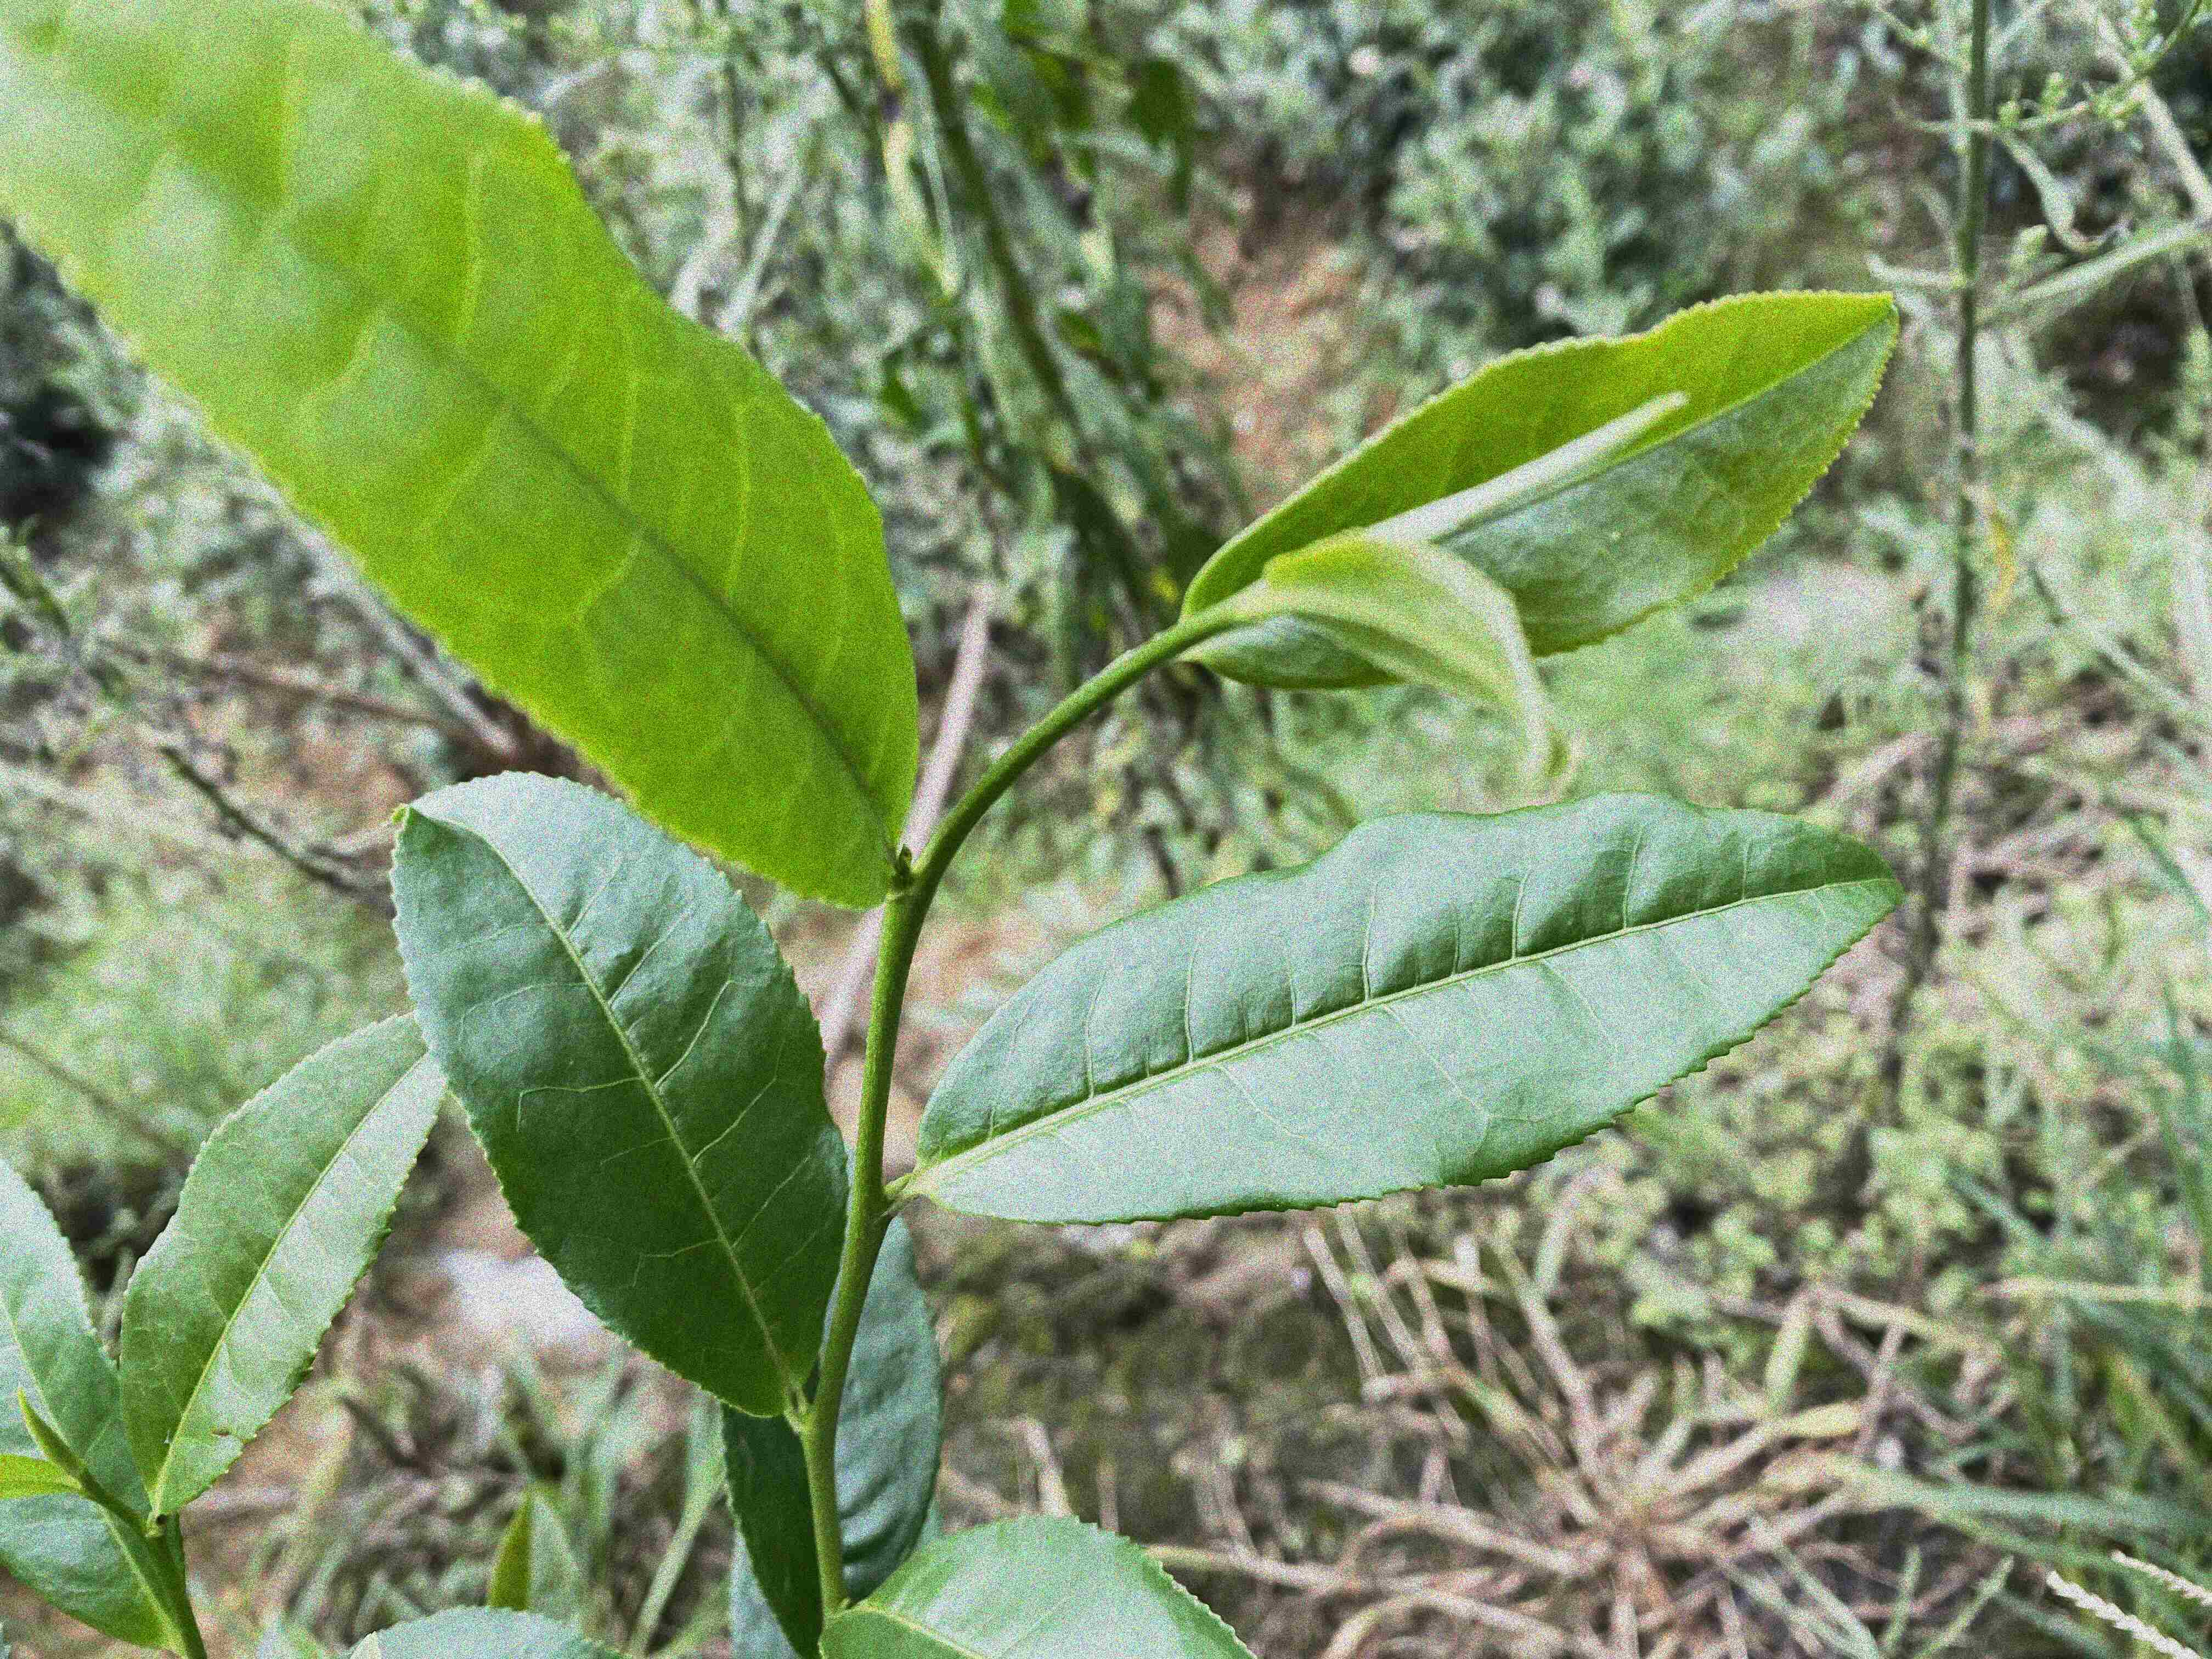healthy: (2, 3, 923, 908), (916, 786, 1909, 1229), (383, 765, 848, 1417), (1176, 291, 1904, 697), (115, 1018, 446, 1516)
